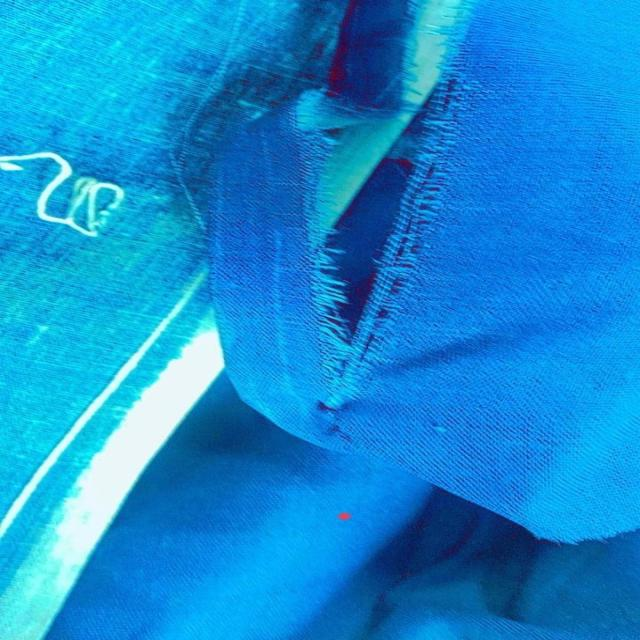cut: (282, 66, 458, 366)
